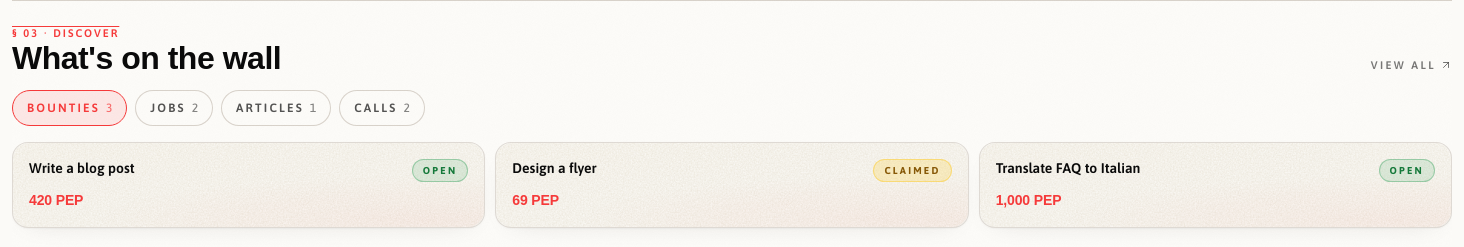
<Discover /> › switches to the Jobs tab and renders job previews
Click the tab "Jobs 2" at (174, 108), box [135,90,213,126]
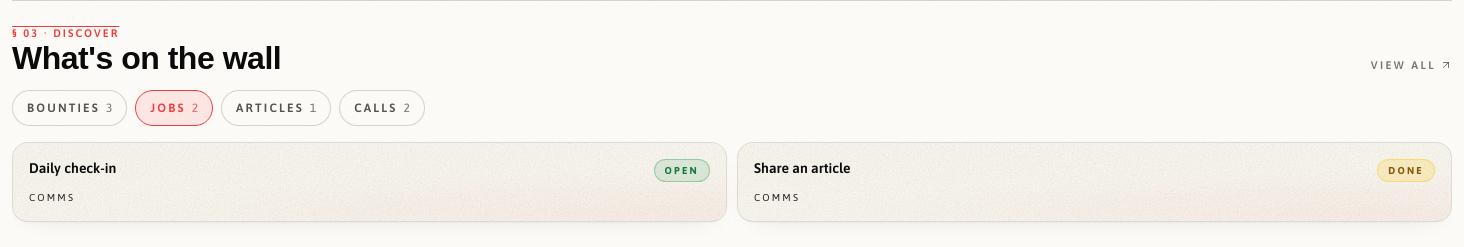
Now the text "Daily check-in" is shown, box [29,160,116,176]
Now the text "Share an article" is shown, box [754,160,850,176]
Now the text "Comms" below "Daily check-in" is shown, box [29,192,75,202]
